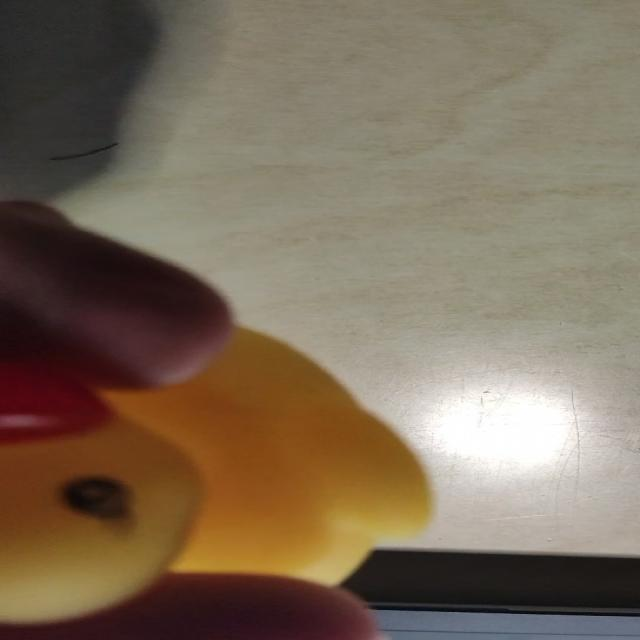rubber-duck: (0, 327, 429, 621)
